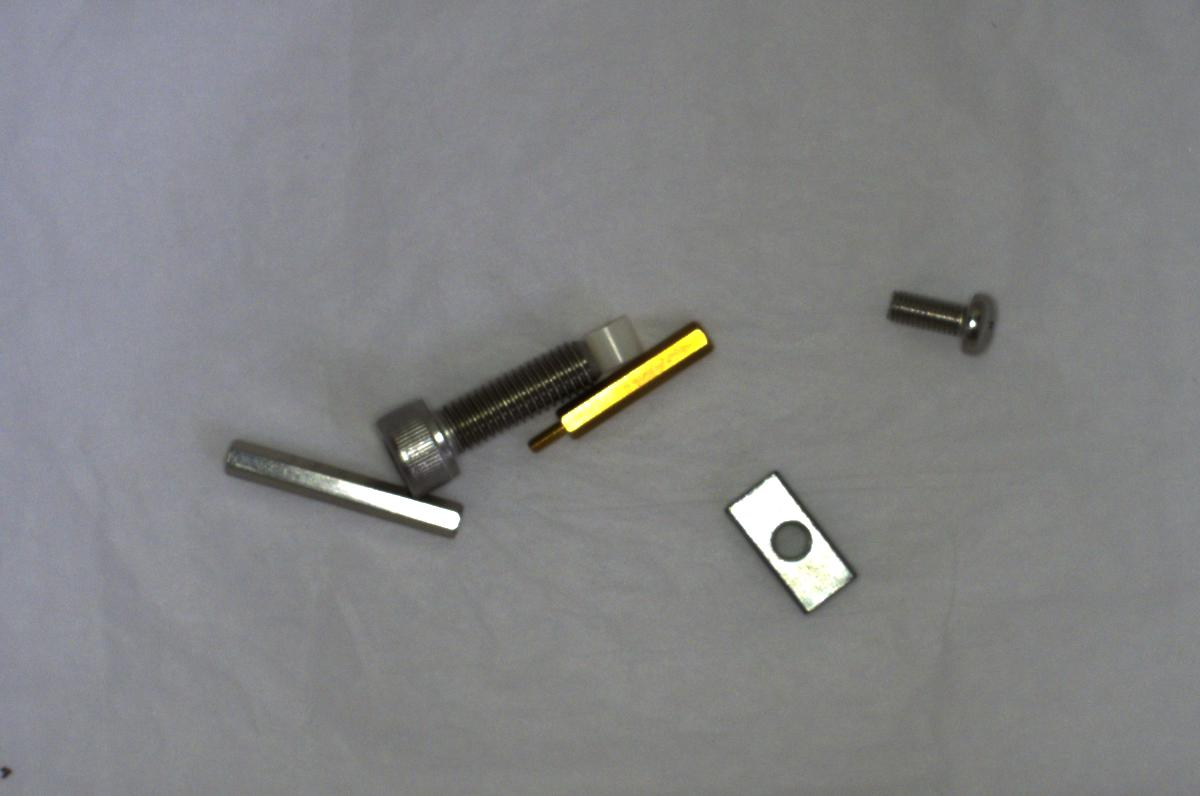Double hexagonal column: (211, 436, 467, 536)
Hexagon pillar: (526, 319, 711, 454)
Hexagon screw: (371, 341, 595, 498)
Plastic cushion pillar: (584, 310, 645, 376)
Rectangular nut: (714, 465, 867, 621)
Round head screw: (870, 280, 1012, 367)
